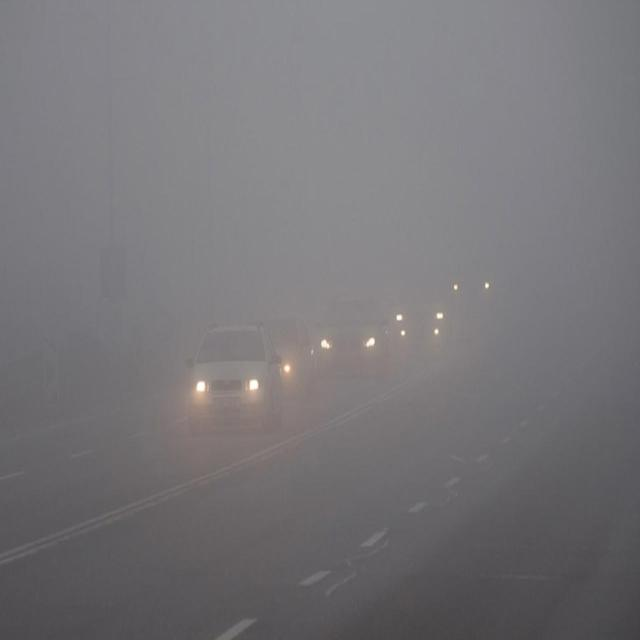Car: (186, 326, 283, 435), (390, 278, 465, 354), (315, 300, 387, 377), (258, 316, 313, 394)
